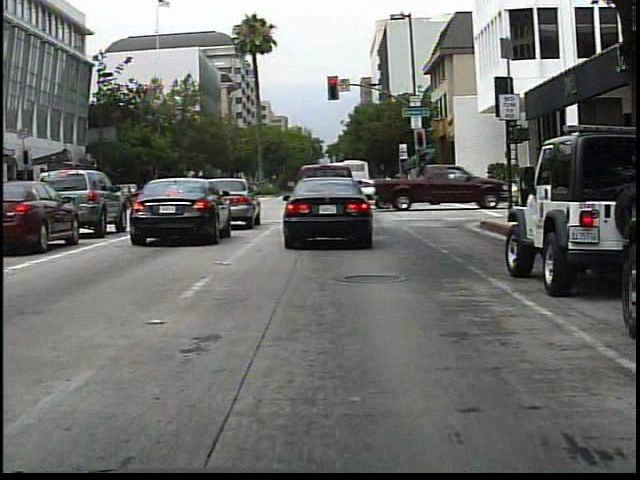person: (428, 166, 444, 197), (444, 167, 461, 196)
